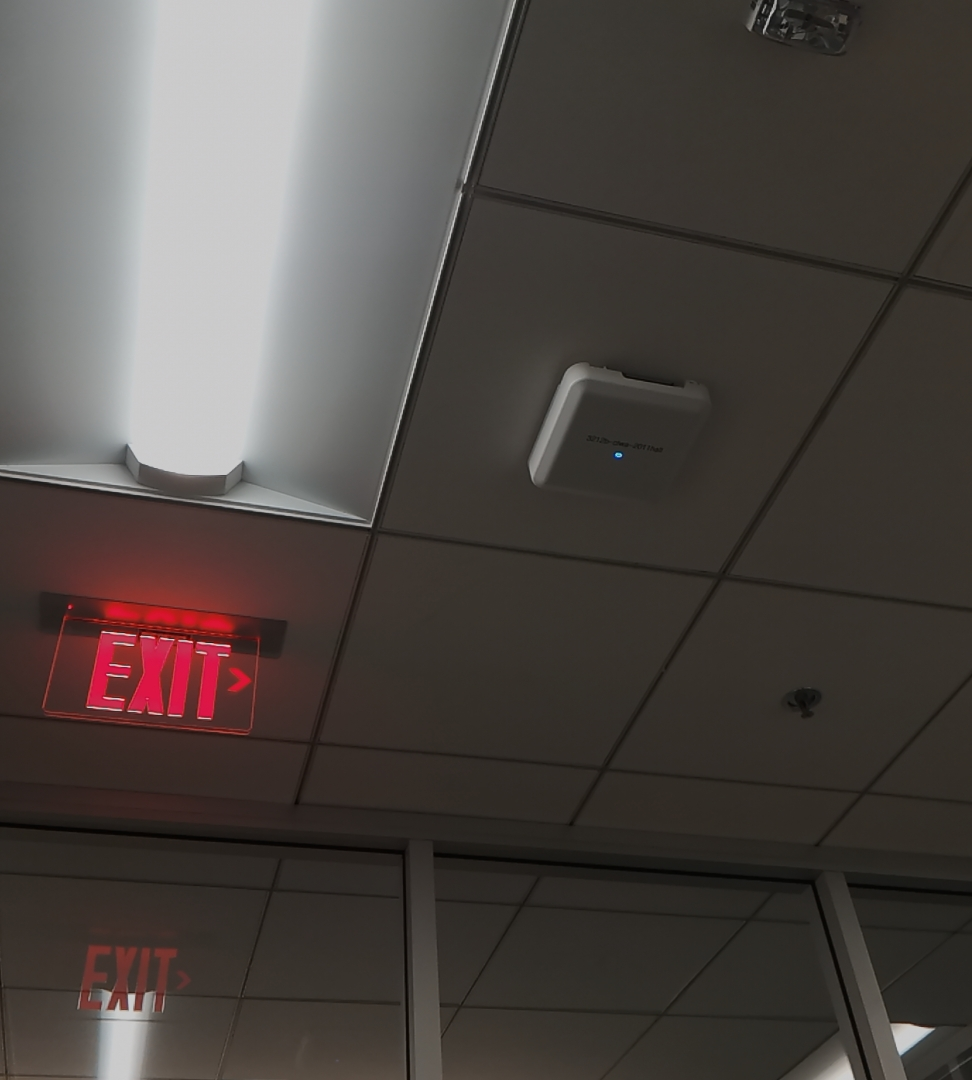emergency_exit: (39, 597, 268, 739)
